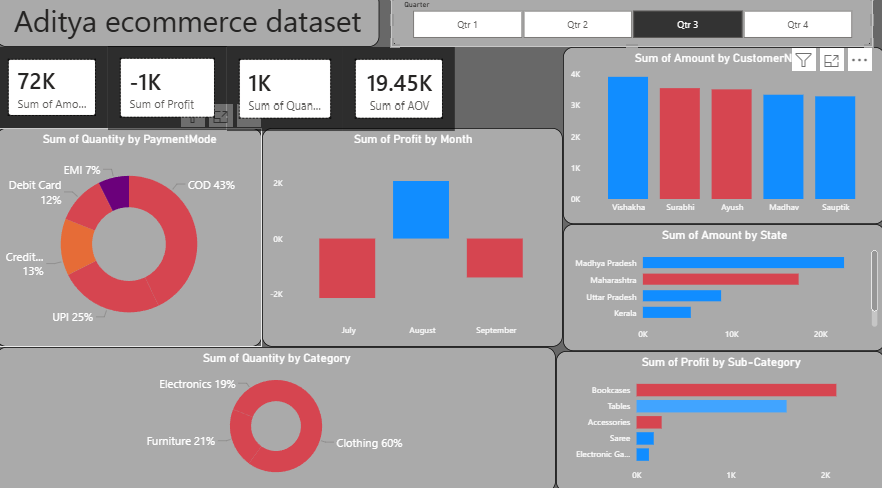

This screenshot's page, from the dashboard's own definition file:
{"tool":"powerbi","page":{"name":"Page 1","canvas":[1280,720],"ordinal":0},"visuals":[{"type":"textbox","box":[0,0,551.5,79.2],"z":0},{"type":"columnChart","fields":{"Category":["power bi data set 2.Order Date.Variation.Date Hierarchy.Month"],"Y":["Sum(power bi data set 1.Profit)"]},"box":[383,195.8,433.4,315.4],"z":1000},{"type":"barChart","fields":{"Category":["power bi data set 1.Sub-Category"],"Y":["Sum(power bi data set 1.Profit)"]},"box":[806.4,517,473.8,203],"z":2000},{"type":"donutChart","fields":{"Category":["power bi data set 1.Category"],"Y":["Sum(power bi data set 1.Quantity)"]},"box":[0,511.2,806.4,208.8],"z":3000},{"type":"donutChart","fields":{"Y":["Sum(power bi data set 1.Quantity)"],"Category":["power bi data set 1.PaymentMode"]},"box":[0,195.8,383,315.4],"z":4000},{"type":"cardVisual","fields":{"Data":["Sum(power bi data set 1.Amount)"]},"box":[0,79.2,161.3,116.6],"z":5000},{"type":"cardVisual","fields":{"Data":["Sum(power bi data set 1.Profit)"]},"box":[161.3,77.8,171.4,121],"z":6000},{"type":"cardVisual","fields":{"Data":["Sum(power bi data set 1.Quantity)"]},"box":[332.6,79.2,167,121],"z":7000},{"type":"cardVisual","fields":{"Data":["Sum(power bi data set 1.AOV)"]},"box":[499.7,79.2,161.3,121],"z":8000},{"type":"barChart","fields":{"Category":["power bi data set 2.State"],"Y":["Sum(power bi data set 1.Amount)"]},"box":[816.5,334.1,463.7,182.9],"z":9000},{"type":"columnChart","fields":{"Category":["power bi data set 2.CustomerName"],"Y":["Sum(power bi data set 1.Amount)"]},"box":[816.5,79.2,463.7,254.9],"z":10000},{"type":"slicer","fields":{"Values":["power bi data set 2.Order Date.Variation.Date Hierarchy.Quarter"]},"box":[568.8,0,694.1,79.2],"z":11000}]}

Visuals, with their boxes in screenshot pixels (x1, y1, x2, y2), scaled from the page's 1280x720 canvas onto the 882x488 screenshot:
textbox: select_region(0, 0, 380, 54)
columnChart - power bi data set 2.Order Date.Variation.Date Hierarchy.Month x Sum(power bi data set 1.Profit): select_region(264, 133, 563, 346)
barChart - power bi data set 1.Sub-Category x Sum(power bi data set 1.Profit): select_region(556, 350, 881, 487)
donutChart - power bi data set 1.Category x Sum(power bi data set 1.Quantity): select_region(0, 346, 556, 487)
donutChart - Sum(power bi data set 1.Quantity) x power bi data set 1.PaymentMode: select_region(0, 133, 264, 346)
cardVisual - Sum(power bi data set 1.Amount): select_region(0, 54, 111, 133)
cardVisual - Sum(power bi data set 1.Profit): select_region(111, 53, 229, 135)
cardVisual - Sum(power bi data set 1.Quantity): select_region(229, 54, 344, 136)
cardVisual - Sum(power bi data set 1.AOV): select_region(344, 54, 455, 136)
barChart - power bi data set 2.State x Sum(power bi data set 1.Amount): select_region(563, 226, 881, 350)
columnChart - power bi data set 2.CustomerName x Sum(power bi data set 1.Amount): select_region(563, 54, 881, 226)
slicer - power bi data set 2.Order Date.Variation.Date Hierarchy.Quarter: select_region(392, 0, 870, 54)
